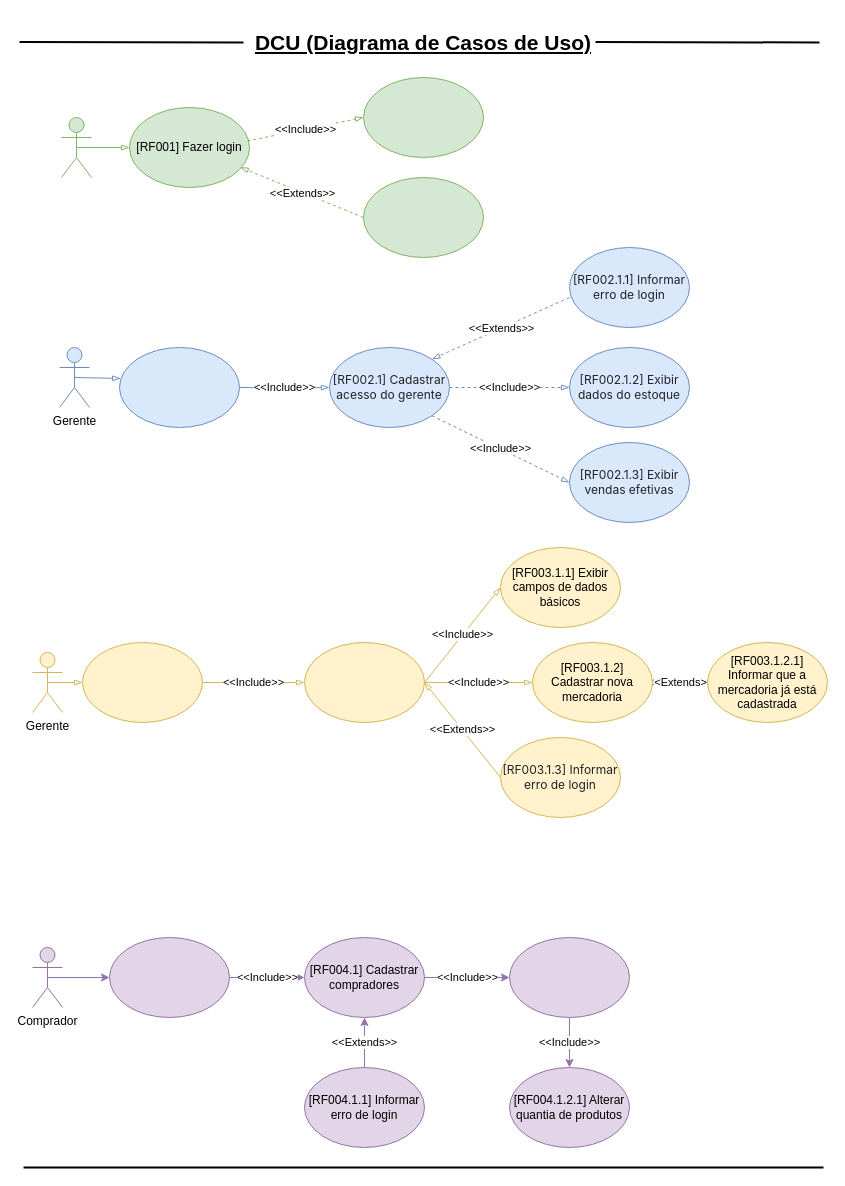
This 845x1186 diagram has some shape labels left out. The shapes that lost their labels are listed below. From the top down, each one's box as (x1, y1, x2, y2) in pixels, then its label:
(362, 76, 484, 158): [RF001.1] Informar e-mail e senha
(60, 116, 92, 178): Usuário
(362, 176, 484, 258): [RF001.2] Informar Erro de login
(118, 346, 240, 428): [RF002] Exibir Dashboard de Estoque
(82, 642, 202, 722): [RF003] Cadastrar Mercadorias
(304, 642, 424, 722): [RF003.1] Cadastrar acesso do gerente
(108, 936, 230, 1018): [RF004] Registrar Entradas de Compras
(508, 936, 630, 1018): [RF004.1.2] Dados gerais das mercadorias
